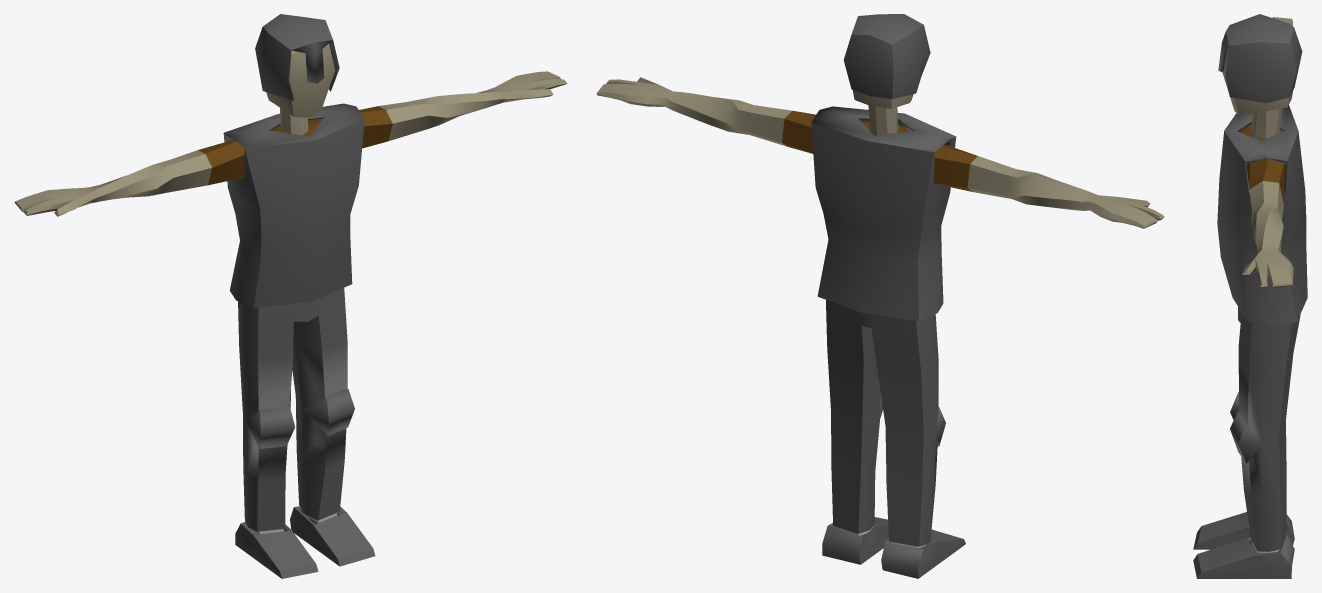
Rendered from castle_base.fbx.
3 views of the same model, side by side, from view 1: azimuth 30°, elevation 25°; view 2: azimuth 150°, elevation 25°; view 3: azimuth 270°, elevation 25° (orthographic). The views are drawn at different scales.
Parts seen in each view (by area): view 1: Legging, Chestplate, Torso_Arms_Hands.001, Boots, Helmet, Head.001; view 2: Chestplate, Legging, Torso_Arms_Hands.001, Helmet, Boots, Head.001; view 3: Chestplate, Legging, Helmet, Boots, Torso_Arms_Hands.001, Head.001.
Part boxes in pixels (x1,y1,x2,y2): Legging: (238,288,354,531); Chestplate: (223,103,364,307); Torso_Arms_Hands.001: (14,71,567,216); Boots: (235,506,375,578); Helmet: (255,14,339,100); Head.001: (266,44,335,135); Chestplate: (811,106,956,321); Legging: (826,282,945,546); Torso_Arms_Hands.001: (596,77,1164,228); Helmet: (843,14,930,99); Boots: (822,517,965,578); Head.001: (852,90,913,135); Chestplate: (1217,105,1307,324); Legging: (1230,285,1300,551); Helmet: (1218,14,1302,103); Boots: (1193,512,1294,578); Torso_Arms_Hands.001: (1239,17,1293,288); Head.001: (1222,45,1292,139).
Bounding box in the file's own units: 200 × 186 × 36.1.
